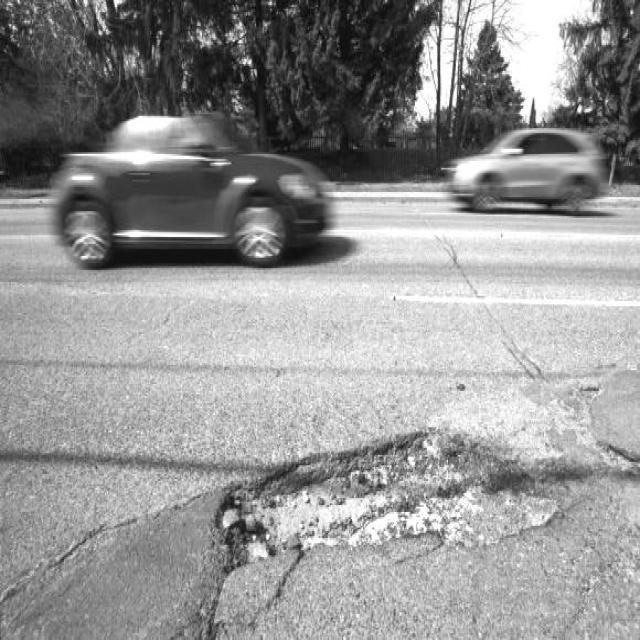pothole: (212, 422, 588, 573)
